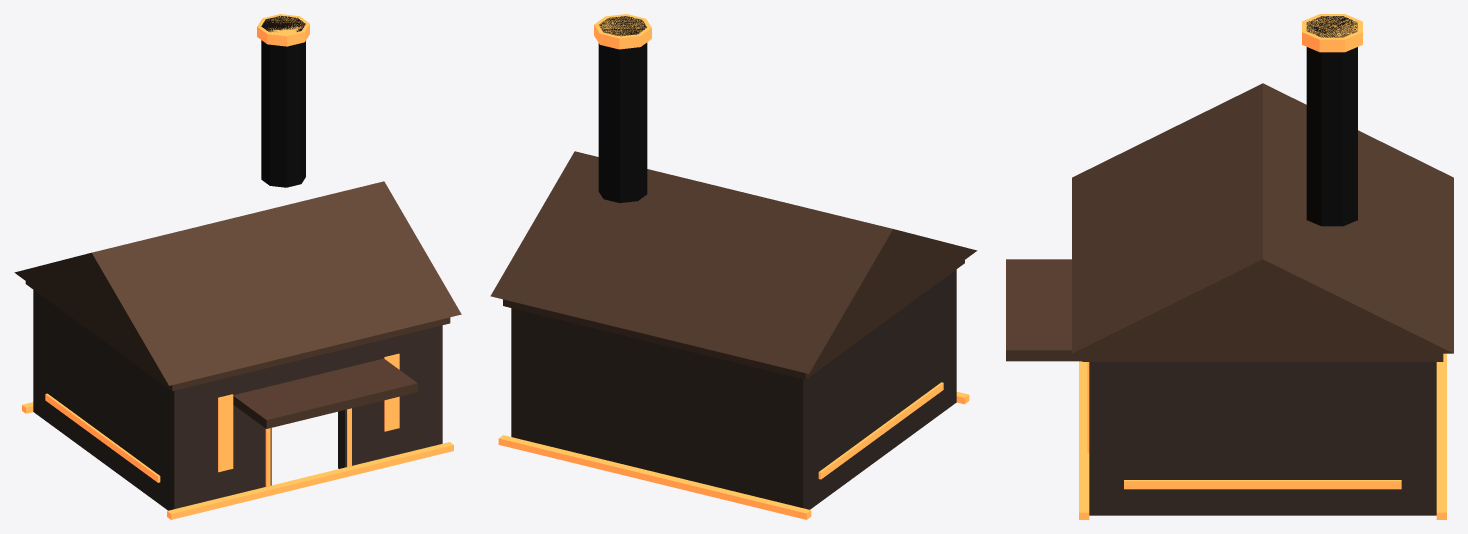
The model's file is shaddai_dist_volcano_home_a_v01.glb.
The picture shows the model from 3 angles, left to right: view 1: azimuth 30°, elevation 25°; view 2: azimuth 150°, elevation 25°; view 3: azimuth 270°, elevation 25°; orthographic projection. The views are drawn at different scales.
Parts seen in each view (by area): view 1: shaddai_dist_volcano_home_a; view 2: shaddai_dist_volcano_home_a; view 3: shaddai_dist_volcano_home_a.
Part boxes in pixels (x1,y1,x2,y2): shaddai_dist_volcano_home_a: [14, 14, 461, 519]; shaddai_dist_volcano_home_a: [490, 14, 977, 519]; shaddai_dist_volcano_home_a: [1006, 14, 1453, 519].
Size of the model in its own units: 12 by 14.38 by 12.9.
